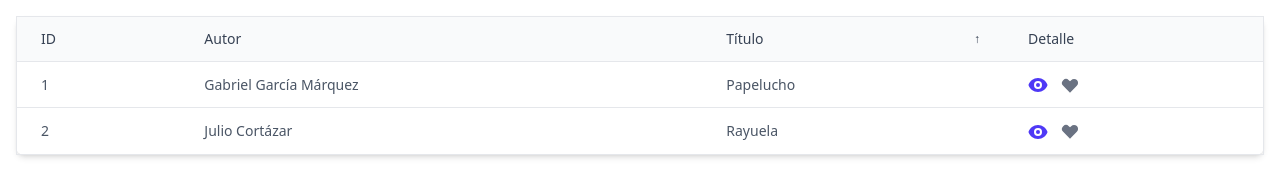
Scenario: DataTable Component › sorts books when clicking the title header
The image size is (1280, 176).
Click the text "Título" at (745, 38), box left=726, top=29, right=980, bottom=49
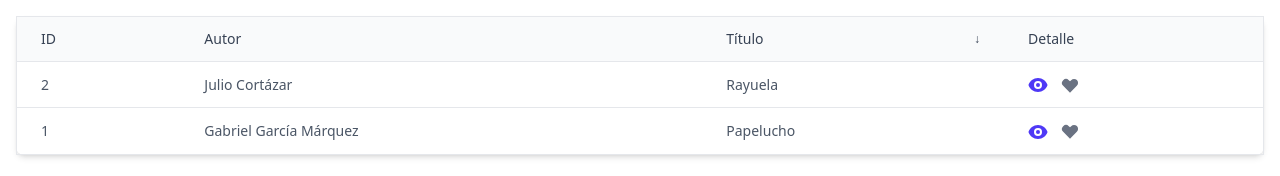
expect the row "2 Julio Cortázar Rayuela" is shown: met, box left=16, top=62, right=1264, bottom=108
